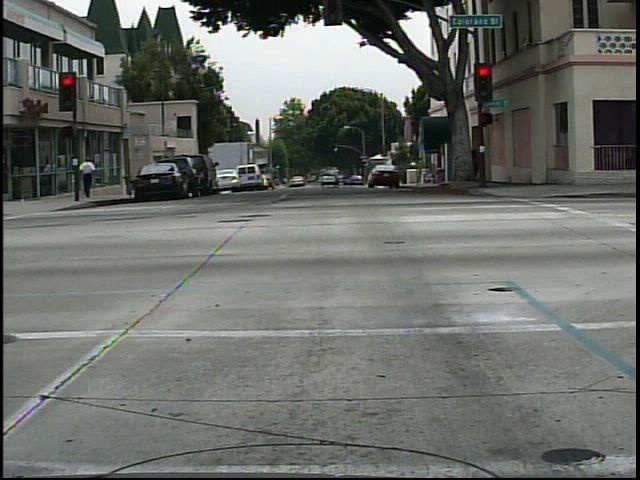person: (474, 140, 505, 193), (82, 152, 102, 203)
